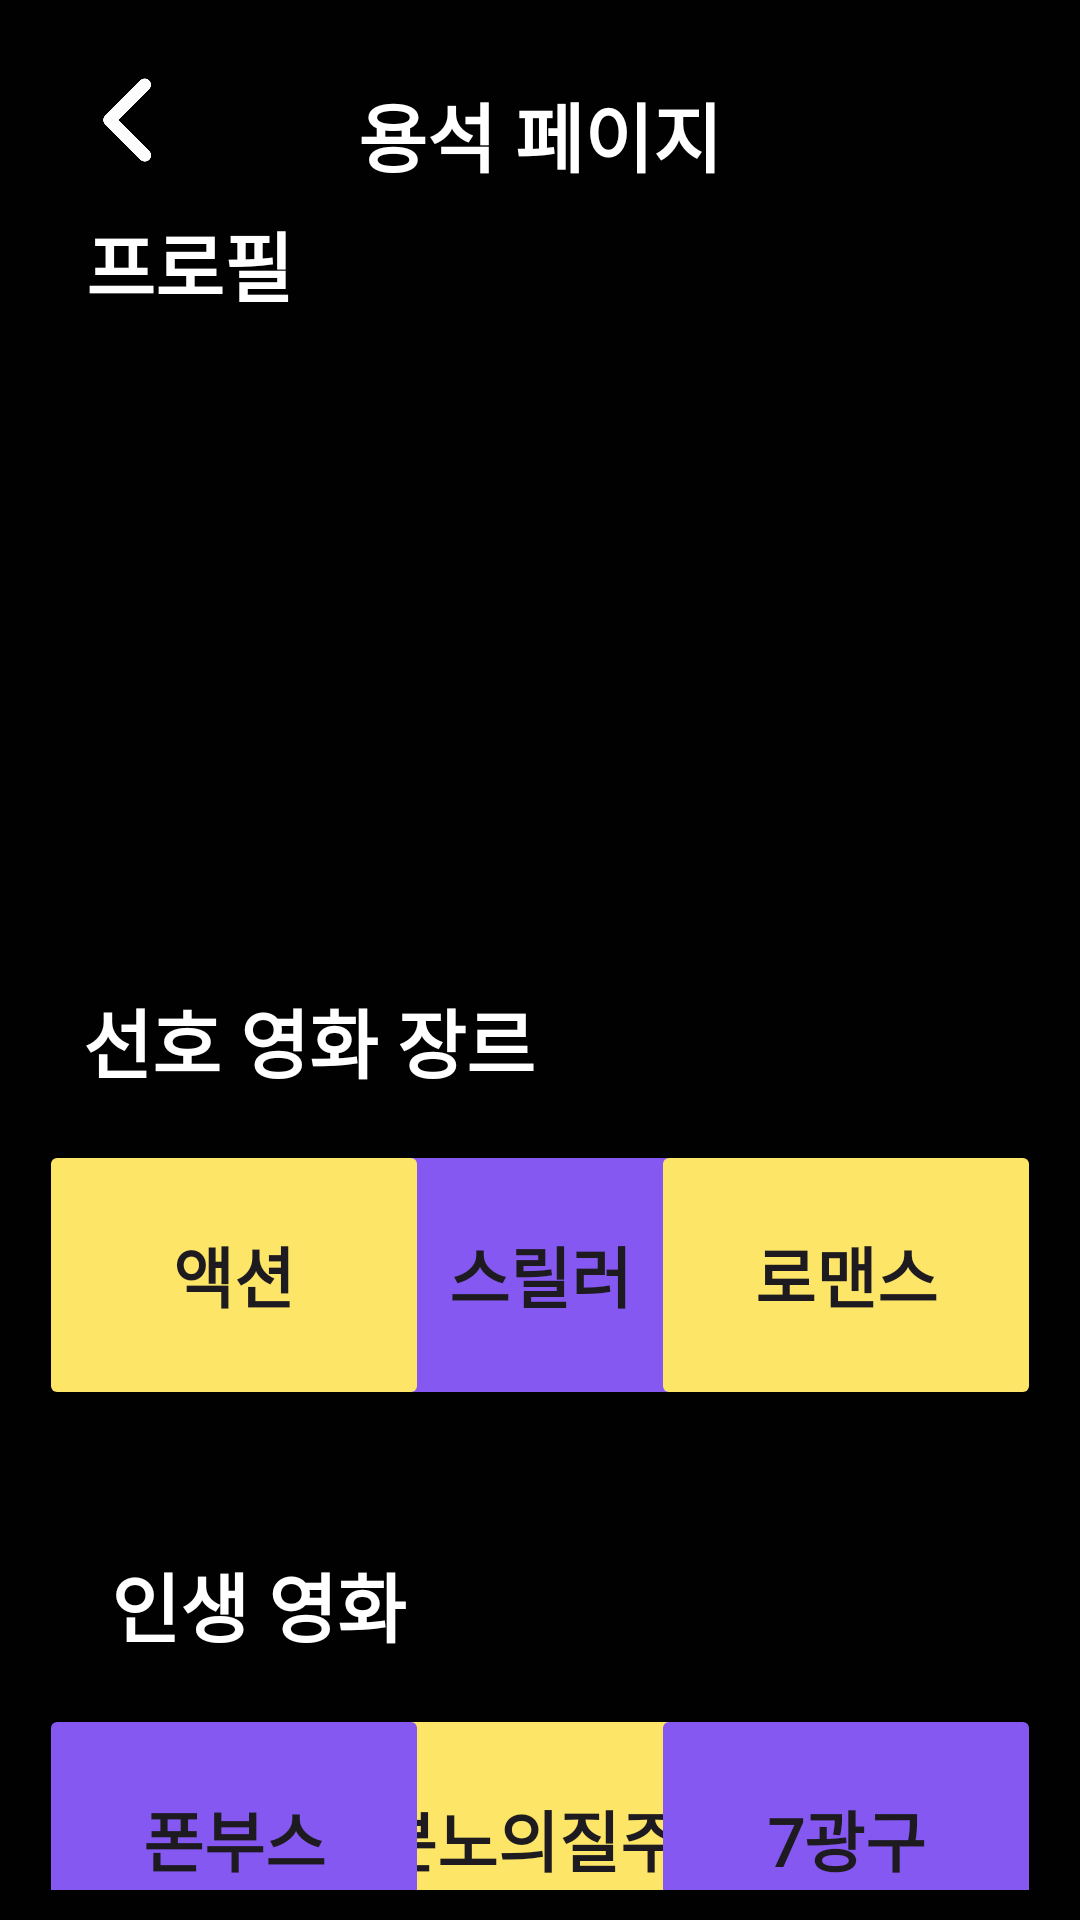

Locate icon controls on the screen. Image size 1080 x 1920, boxes as (x1=x1, y1=y1, x2=x2, y2=y2).
back: (x1=103, y1=78, x2=151, y2=162)
